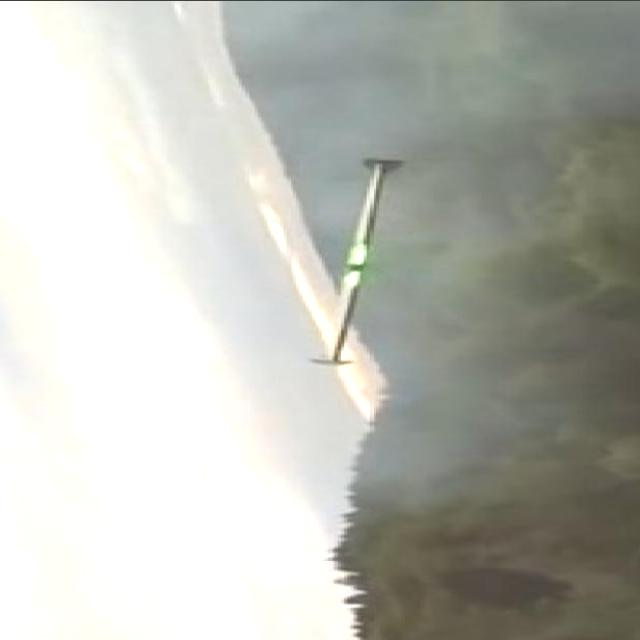plane: (306, 154, 404, 367)
